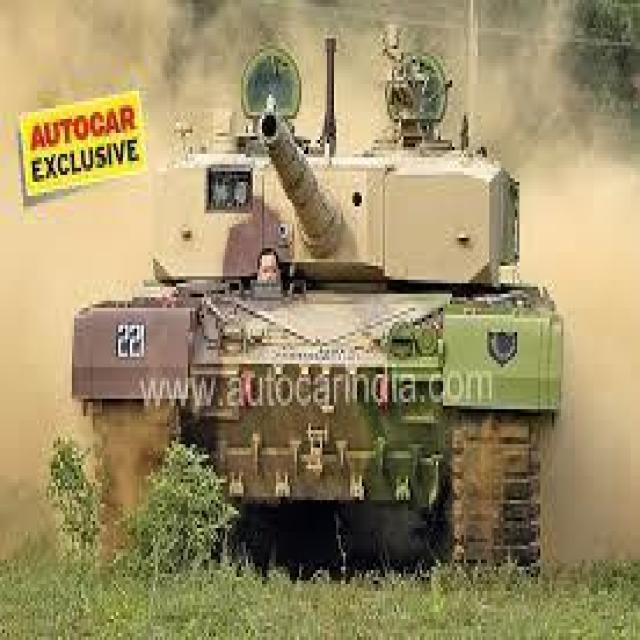MIL_MBT: (57, 31, 569, 584)
